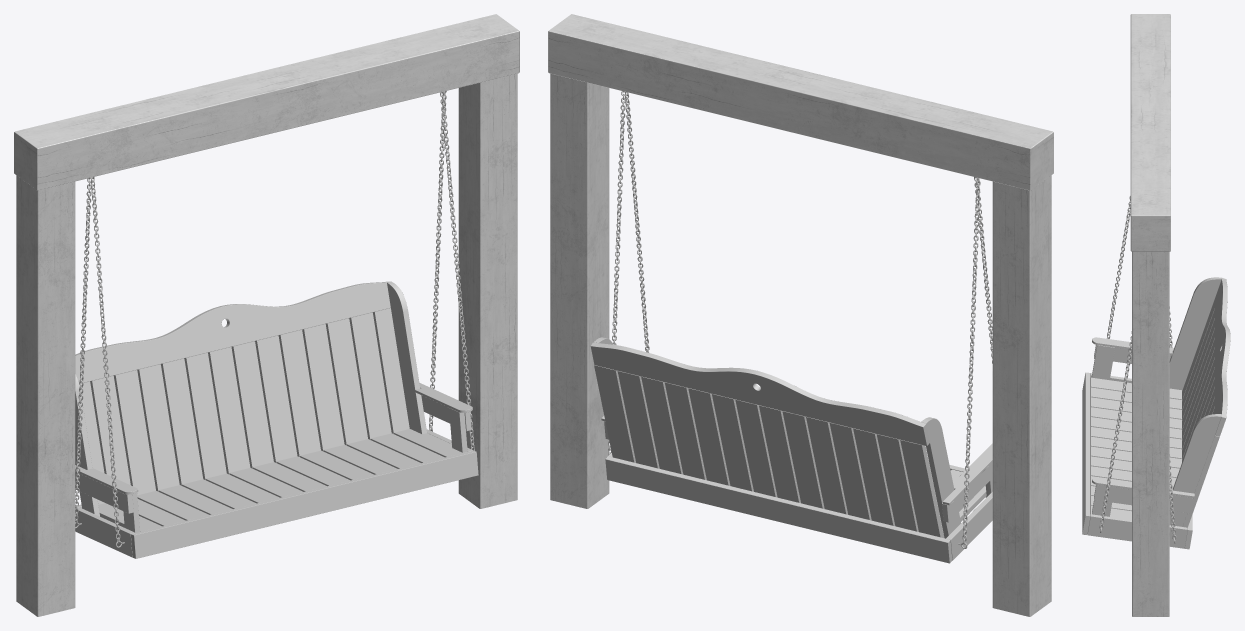
3 renders of one model, left to right at view 1: azimuth 30°, elevation 25°; view 2: azimuth 150°, elevation 25°; view 3: azimuth 270°, elevation 25°, orthographic. The views are drawn at different scales.
Visible parts, largest first — view 1: Column, Wooden_Planks.007, Wooden_Planks.008, Wooden_Planks, Wooden_Planks.005, Wooden_Planks.004, Chain.001, Chain, Wooden_Planks.006, Wooden_Planks.003, Wooden_Planks.001, Wooden_Planks.002; view 2: Column, Wooden_Planks.007, Wooden_Planks, Wooden_Planks.009, Chain, Wooden_Planks.004, Chain.001, Wooden_Planks.006, Wooden_Planks.003, Wooden_Planks.001; view 3: Column, Wooden_Planks.008, Wooden_Planks.004, Wooden_Planks.007, Wooden_Planks, Wooden_Planks.006, Wooden_Planks.005, Wooden_Planks.003, Chain.001, Wooden_Planks.002, Wooden_Planks.001, Chain.
Boxes of the visible parts, x1,y1,x2,y2 form: Column: [14, 14, 519, 616]; Wooden_Planks.007: [79, 308, 409, 504]; Wooden_Planks.008: [98, 429, 467, 531]; Wooden_Planks: [75, 281, 391, 383]; Wooden_Planks.005: [131, 450, 478, 558]; Wooden_Planks.004: [75, 282, 426, 516]; Chain.001: [91, 91, 474, 543]; Chain: [75, 91, 446, 524]; Wooden_Planks.006: [75, 429, 473, 557]; Wooden_Planks.003: [75, 395, 471, 513]; Wooden_Planks.001: [75, 382, 472, 494]; Wooden_Planks.002: [123, 408, 467, 532]; Column: [548, 14, 1053, 616]; Wooden_Planks.007: [594, 365, 944, 537]; Wooden_Planks: [590, 342, 929, 445]; Wooden_Planks.009: [605, 456, 952, 563]; Chain: [608, 91, 980, 544]; Wooden_Planks.004: [593, 337, 960, 538]; Chain.001: [625, 92, 992, 363]; Wooden_Planks.006: [608, 453, 992, 560]; Wooden_Planks.003: [604, 421, 992, 522]; Wooden_Planks.001: [601, 415, 992, 505]; Column: [1130, 14, 1170, 616]; Wooden_Planks.008: [1090, 377, 1181, 519]; Wooden_Planks.004: [1169, 277, 1221, 526]; Wooden_Planks.007: [1182, 299, 1219, 527]; Wooden_Planks: [1215, 278, 1230, 436]; Wooden_Planks.006: [1087, 373, 1187, 548]; Wooden_Planks.005: [1082, 372, 1090, 534]; Wooden_Planks.003: [1094, 345, 1194, 513]; Chain.001: [1099, 196, 1131, 528]; Wooden_Planks.002: [1091, 345, 1114, 516]; Wooden_Planks.001: [1092, 337, 1194, 498]; Chain: [1169, 306, 1176, 539].
Bounding box in the file's own units: 2.37 × 2.2 × 0.7362.
Materials: 2 (2 with a texture image).
